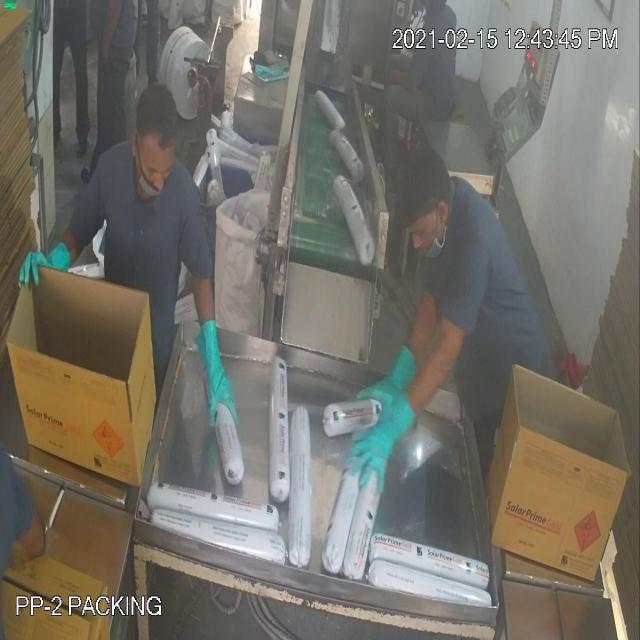Gloves: (46, 56, 395, 446)
